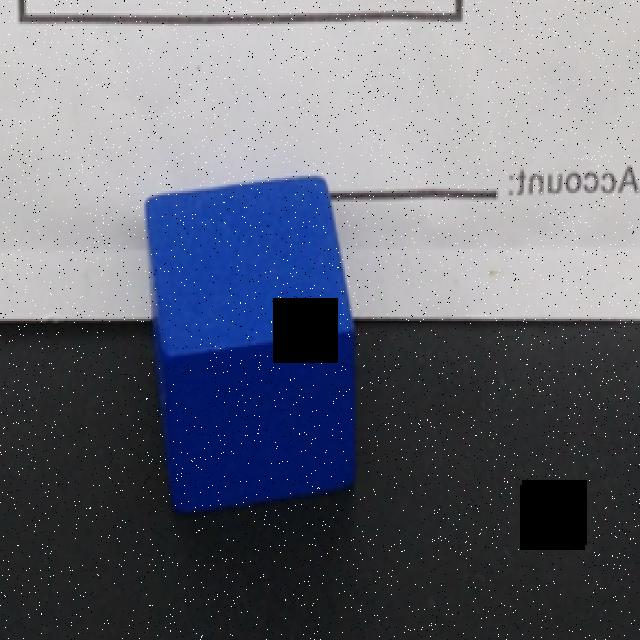bluecube: (144, 176, 356, 516)
